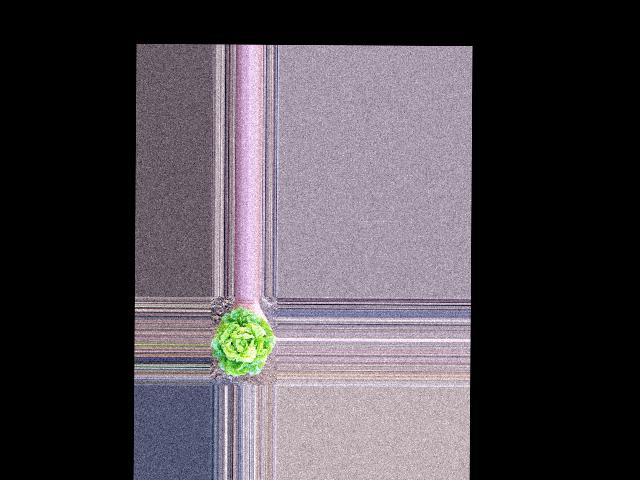lettuce: (212, 311, 274, 377)
